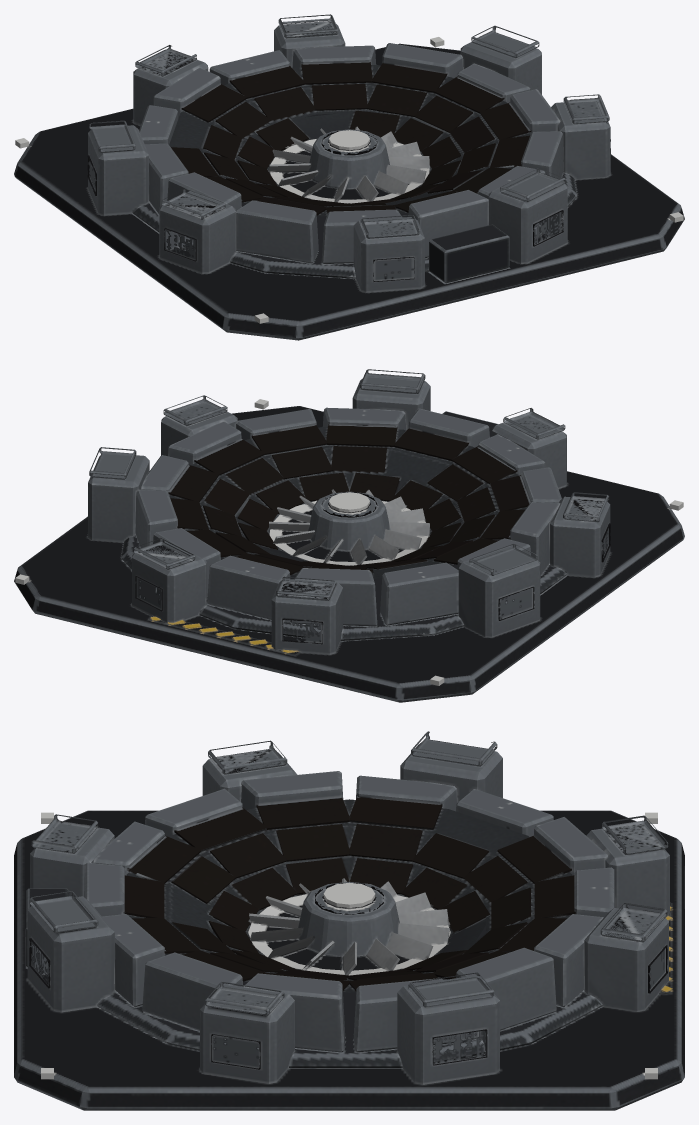
File: chs_advsolar.fbx
The picture shows the model from 3 angles, top to bottom: view 1: azimuth 30°, elevation 25°; view 2: azimuth 150°, elevation 25°; view 3: azimuth 270°, elevation 25°; orthographic projection. The views are drawn at different scales.
Parts seen in each view (by area): view 1: base_bar, base_glow_power_bar; view 2: base_bar, base_glow_power_bar; view 3: base_bar, base_glow_power_bar, base_glow_running_bar.
Boxes of the visible parts, box(x1,y1,x2,y2) form: base_bar: box(14, 14, 684, 340); base_glow_power_bar: box(270, 130, 429, 203); base_bar: box(14, 369, 684, 702); base_glow_power_bar: box(269, 492, 428, 565); base_bar: box(14, 731, 684, 1110); base_glow_power_bar: box(248, 882, 450, 975); base_glow_running_bar: box(41, 812, 657, 1079).
Bounding box in the file's own units: 1556 × 468 × 1556.
2 materials, 2 textured.
